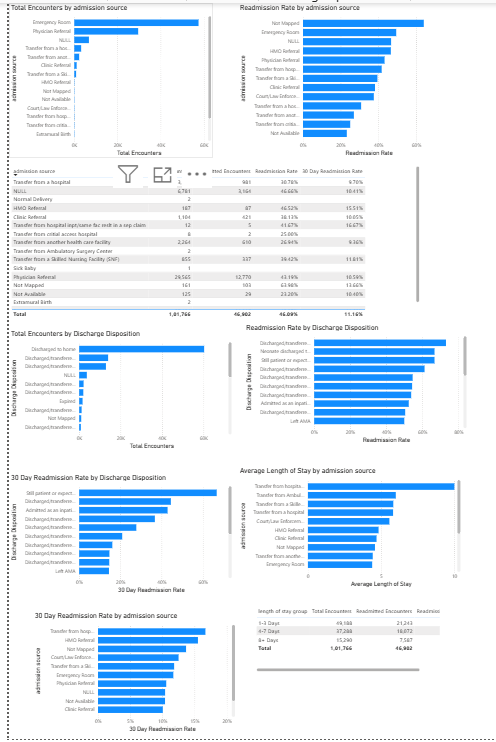

The dashboard page shown, as its layout file describes it:
{"tool":"powerbi","page":{"name":"Hospital / Operational Analysis","canvas":[1200,1800],"ordinal":4},"visuals":[{"type":"tableEx","fields":{"Values":["diabetic_data.admission source","diabetic_data.Total Encounters","diabetic_data.Readmitted Encounters","diabetic_data.Readmission Rate","diabetic_data.30 Day Readmission Rate"]},"box":[0,395,1009,380],"z":0},{"type":"clusteredBarChart","fields":{"Category":["diabetic_data.admission source"],"Y":["diabetic_data.Total Encounters"]},"box":[-0.5,0,500,380],"z":1000},{"type":"clusteredBarChart","fields":{"Y":["diabetic_data.Readmission Rate"],"Category":["diabetic_data.admission source"]},"box":[559,0,500,380],"z":2000},{"type":"clusteredBarChart","fields":{"Y":["diabetic_data.30 Day Readmission Rate"],"Category":["diabetic_data.admission source"]},"box":[59,1489,500,300],"z":3000},{"type":"clusteredBarChart","fields":{"Category":["discharge_disposition_map.Discharge Disposition"],"Y":["diabetic_data.Total Encounters"]},"box":[0,797,550,300],"z":4000},{"type":"clusteredBarChart","fields":{"Category":["discharge_disposition_map.Discharge Disposition"],"Y":["diabetic_data.Readmission Rate"]},"box":[575,783,550,300],"z":5000},{"type":"clusteredBarChart","fields":{"Category":["discharge_disposition_map.Discharge Disposition"],"Y":["diabetic_data.30 Day Readmission Rate"]},"box":[0,1150,550,300],"z":6000},{"type":"tableEx","fields":{"Values":["diabetic_data.length of stay group","diabetic_data.Total Encounters","diabetic_data.Readmitted Encounters","diabetic_data.Readmission Rate"]},"box":[600,1469,525,147],"z":7000},{"type":"clusteredBarChart","fields":{"Category":["diabetic_data.admission source"],"Y":["Admission_source_map.Average Length of Stay"]},"box":[559,1133,550,300],"z":8000}]}

Visuals, with their boxes in screenshot pixels (x1, y1, x2, y2), scaled from the page's 1200x1800 canvas onto the 496x742 screenshot:
tableEx - diabetic_data.admission source x diabetic_data.Total Encounters: x1=0, y1=163, x2=417, y2=319
clusteredBarChart - diabetic_data.admission source x diabetic_data.Total Encounters: x1=0, y1=0, x2=206, y2=157
clusteredBarChart - diabetic_data.Readmission Rate x diabetic_data.admission source: x1=231, y1=0, x2=438, y2=157
clusteredBarChart - diabetic_data.30 Day Readmission Rate x diabetic_data.admission source: x1=24, y1=614, x2=231, y2=737
clusteredBarChart - discharge_disposition_map.Discharge Disposition x diabetic_data.Total Encounters: x1=0, y1=329, x2=227, y2=452
clusteredBarChart - discharge_disposition_map.Discharge Disposition x diabetic_data.Readmission Rate: x1=238, y1=323, x2=465, y2=446
clusteredBarChart - discharge_disposition_map.Discharge Disposition x diabetic_data.30 Day Readmission Rate: x1=0, y1=474, x2=227, y2=598
tableEx - diabetic_data.length of stay group x diabetic_data.Total Encounters: x1=248, y1=606, x2=465, y2=666
clusteredBarChart - diabetic_data.admission source x Admission_source_map.Average Length of Stay: x1=231, y1=467, x2=458, y2=591
